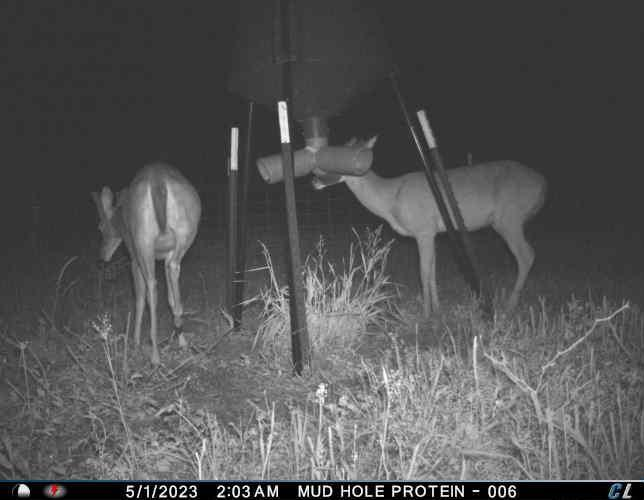Deer: (308, 132, 551, 321), (86, 159, 205, 372)
